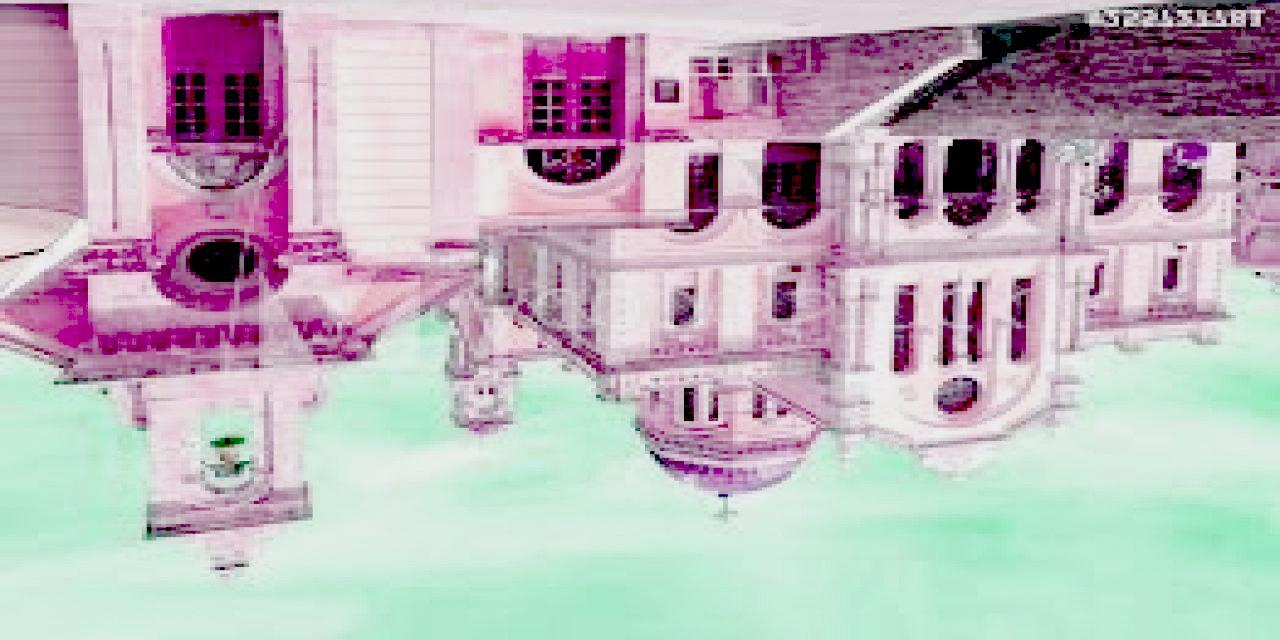Agios Minas: (1, 10, 1280, 596)
